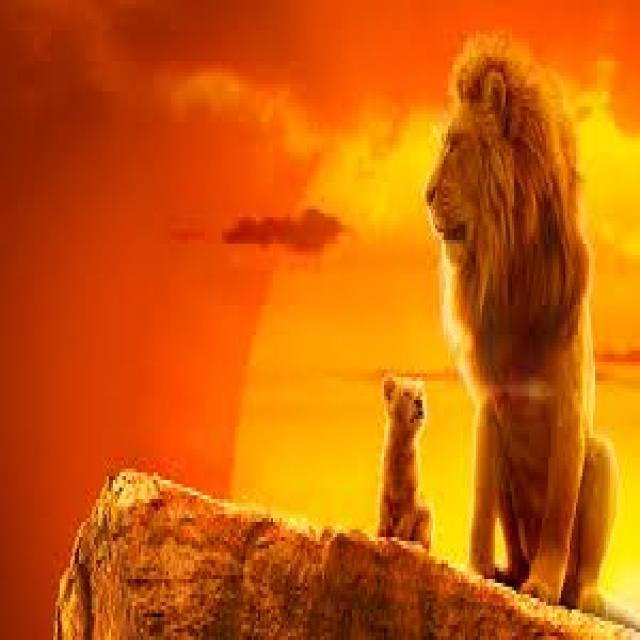Lion: (428, 24, 618, 617)
